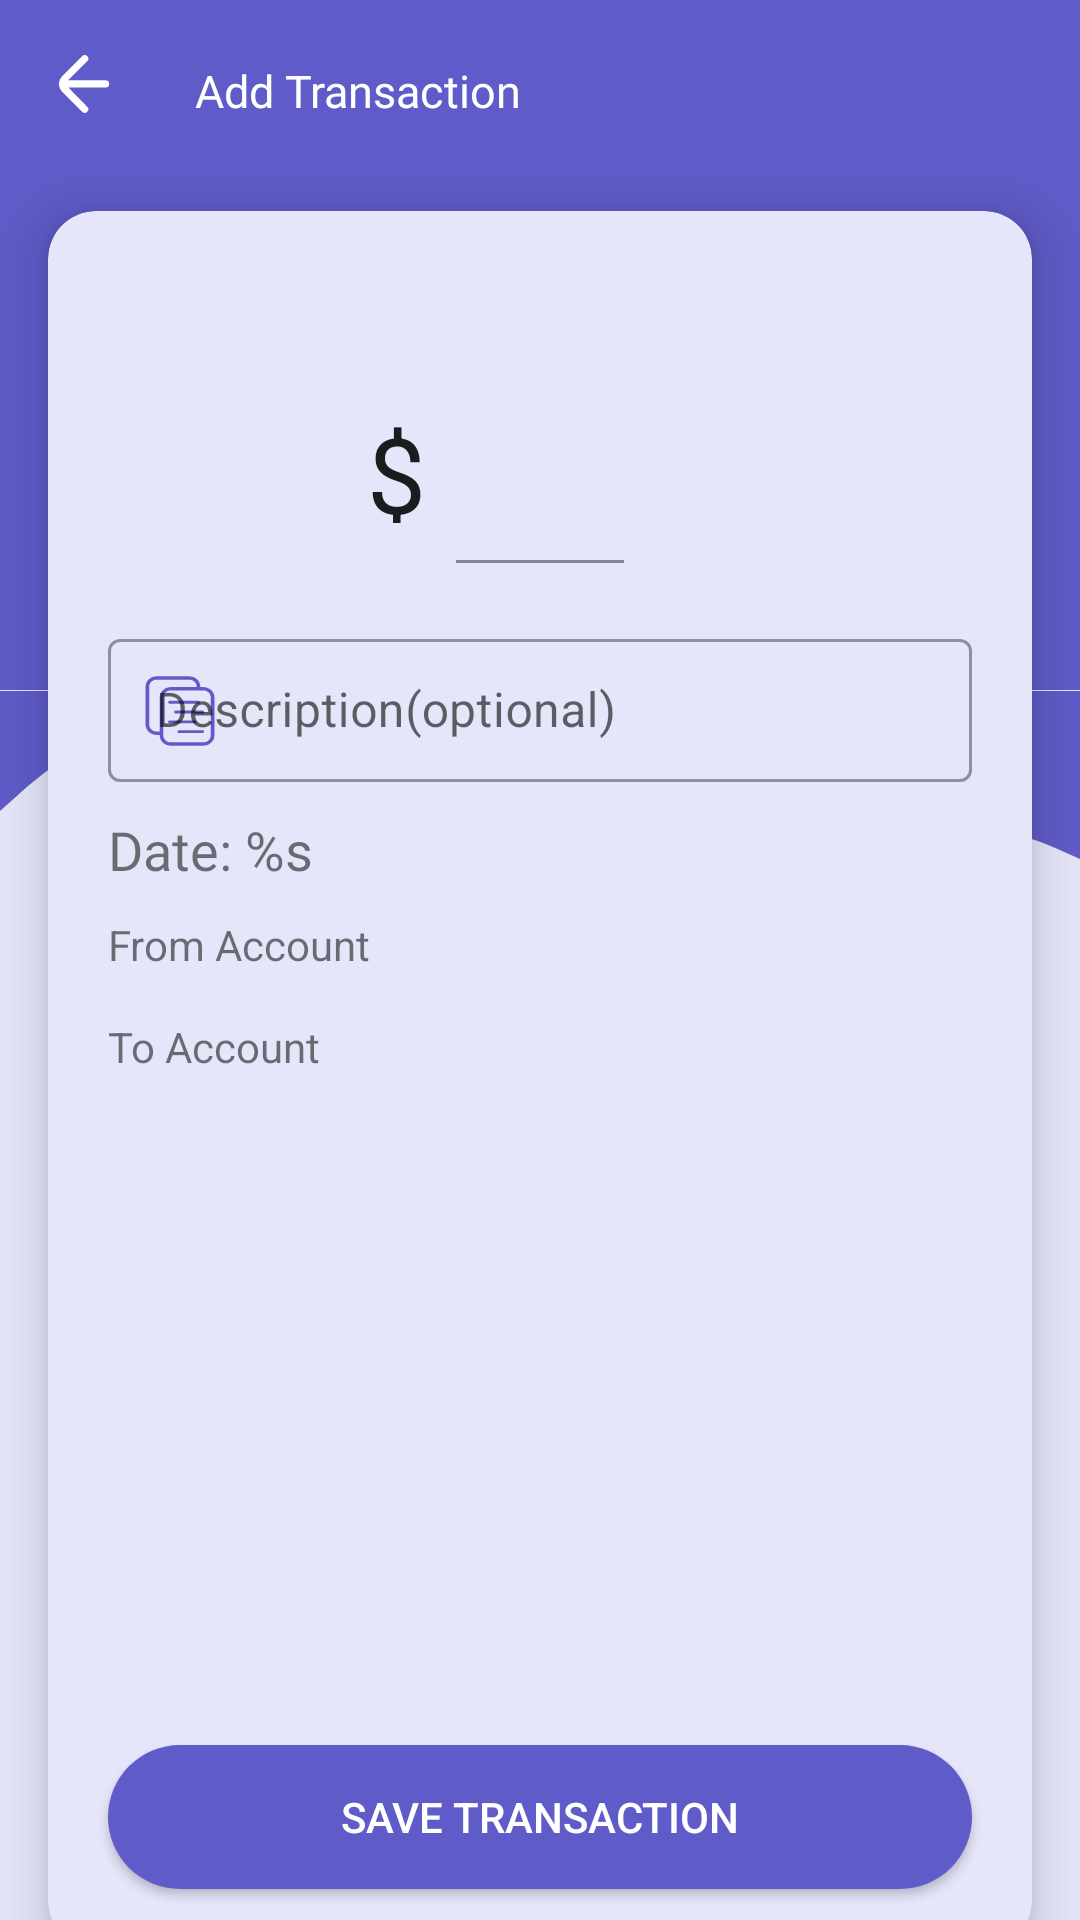

Where to tap for icons on this 1080x1920 app screen, as [x,y]:
back arrow: [83,84]
